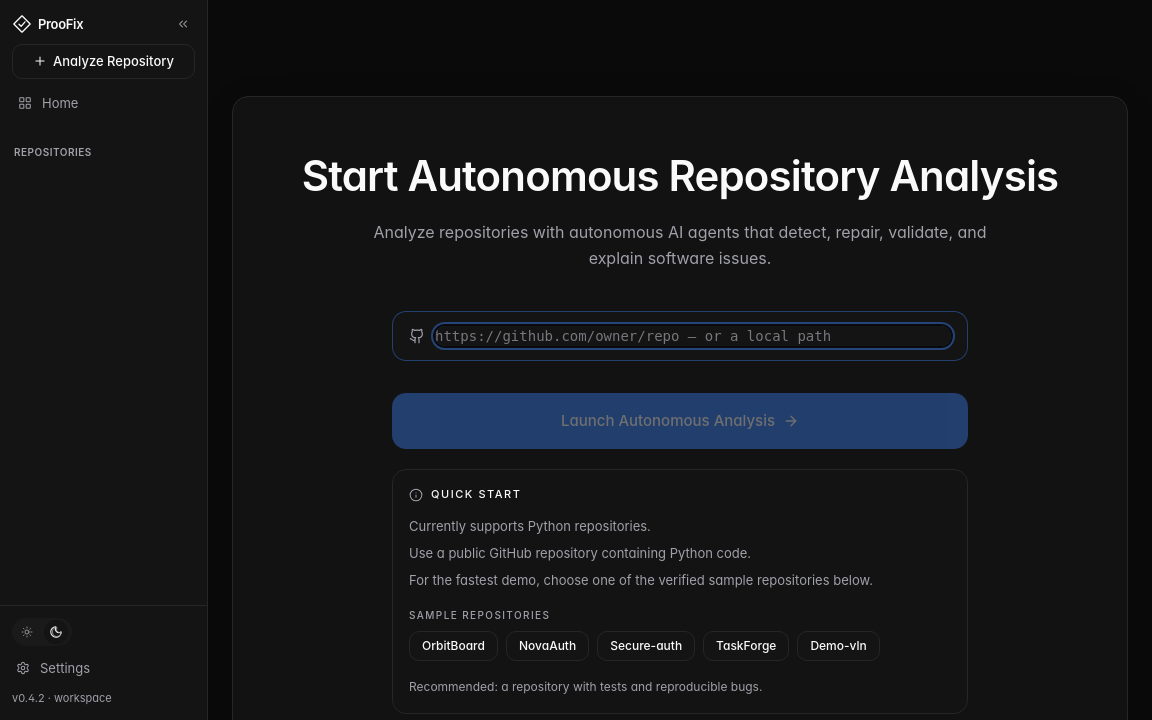
Workspace run creation › rejects an empty backend run ID instead of inventing one
Step 1. Type "/demo-repo" into the field with placeholder "https://github.com/owner/repo — or a local path" → (693, 336), box [435,326,951,346]
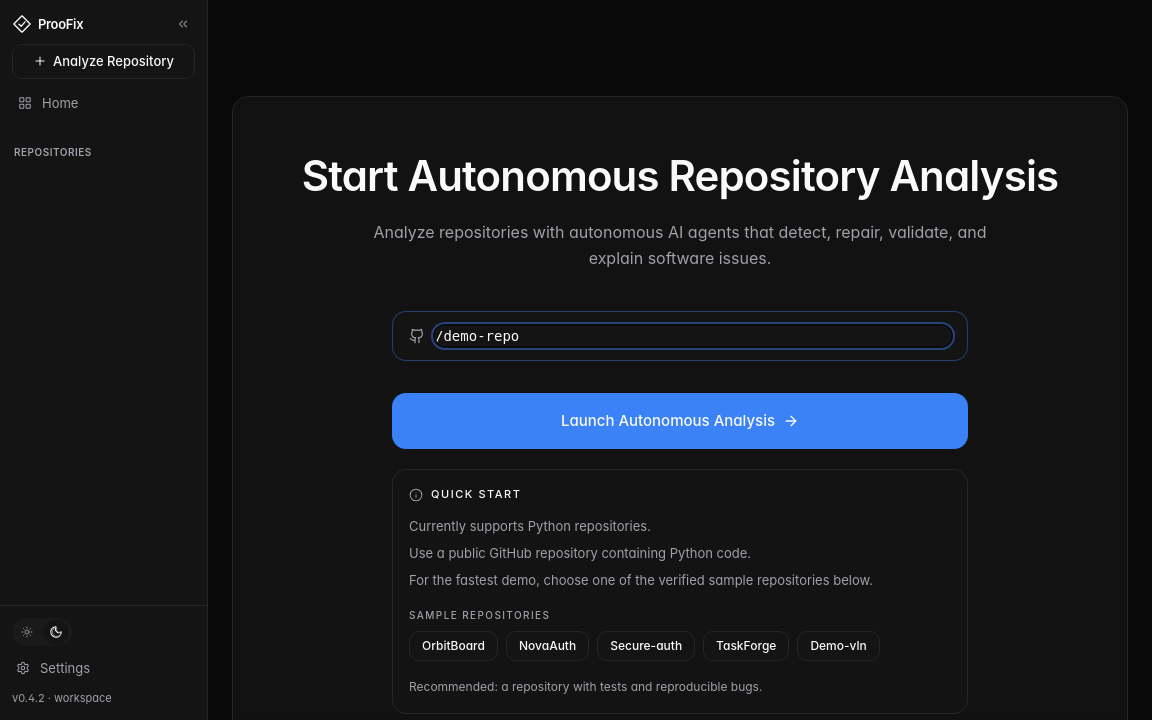
Step 2. Click the button "Launch Autonomous Analysis" → (680, 421), box [392,393,968,449]
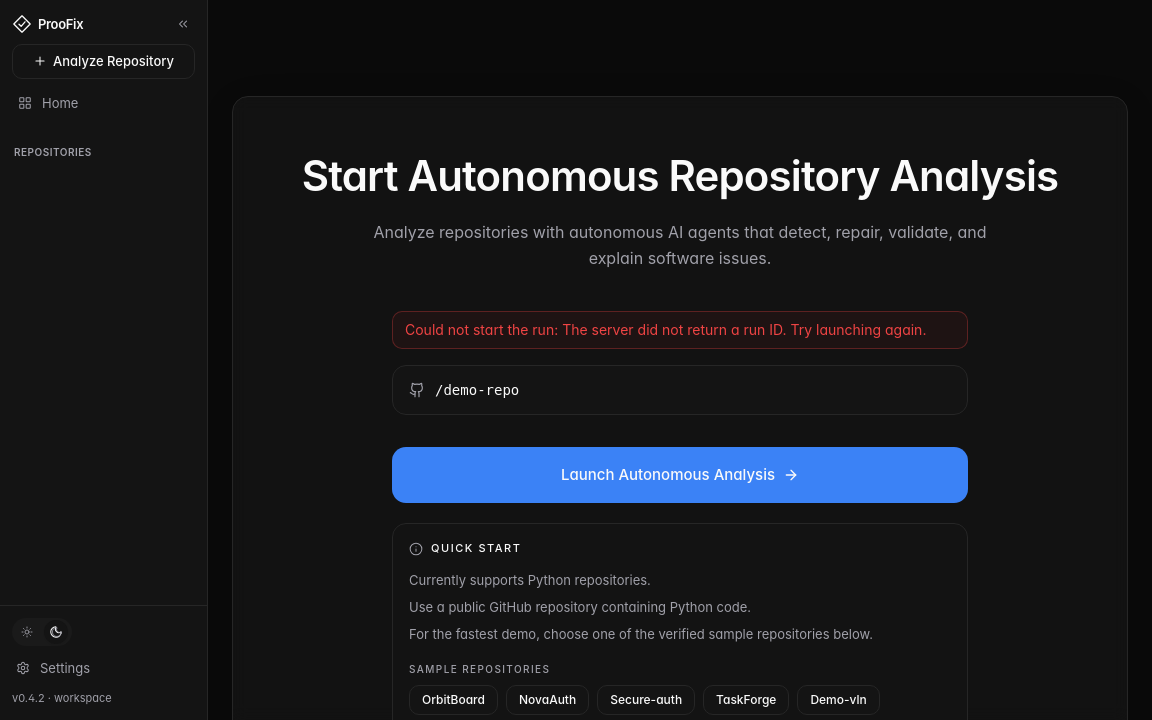
Result: the message shows "did not return a run ID" at [562,321,787,338]
